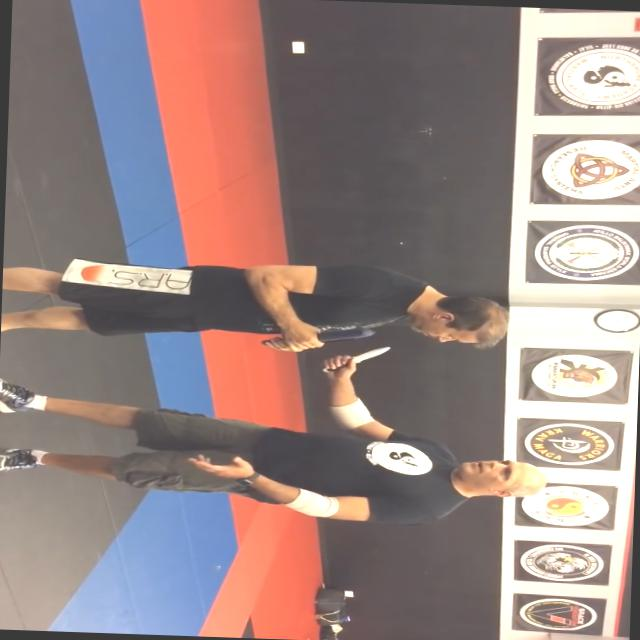knife: (317, 341, 397, 376)
